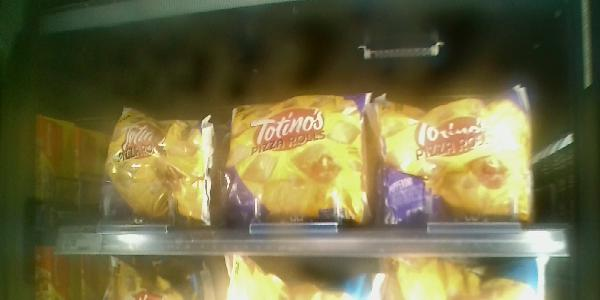icecream: (370, 83, 540, 228), (223, 95, 375, 223), (104, 111, 212, 225)
